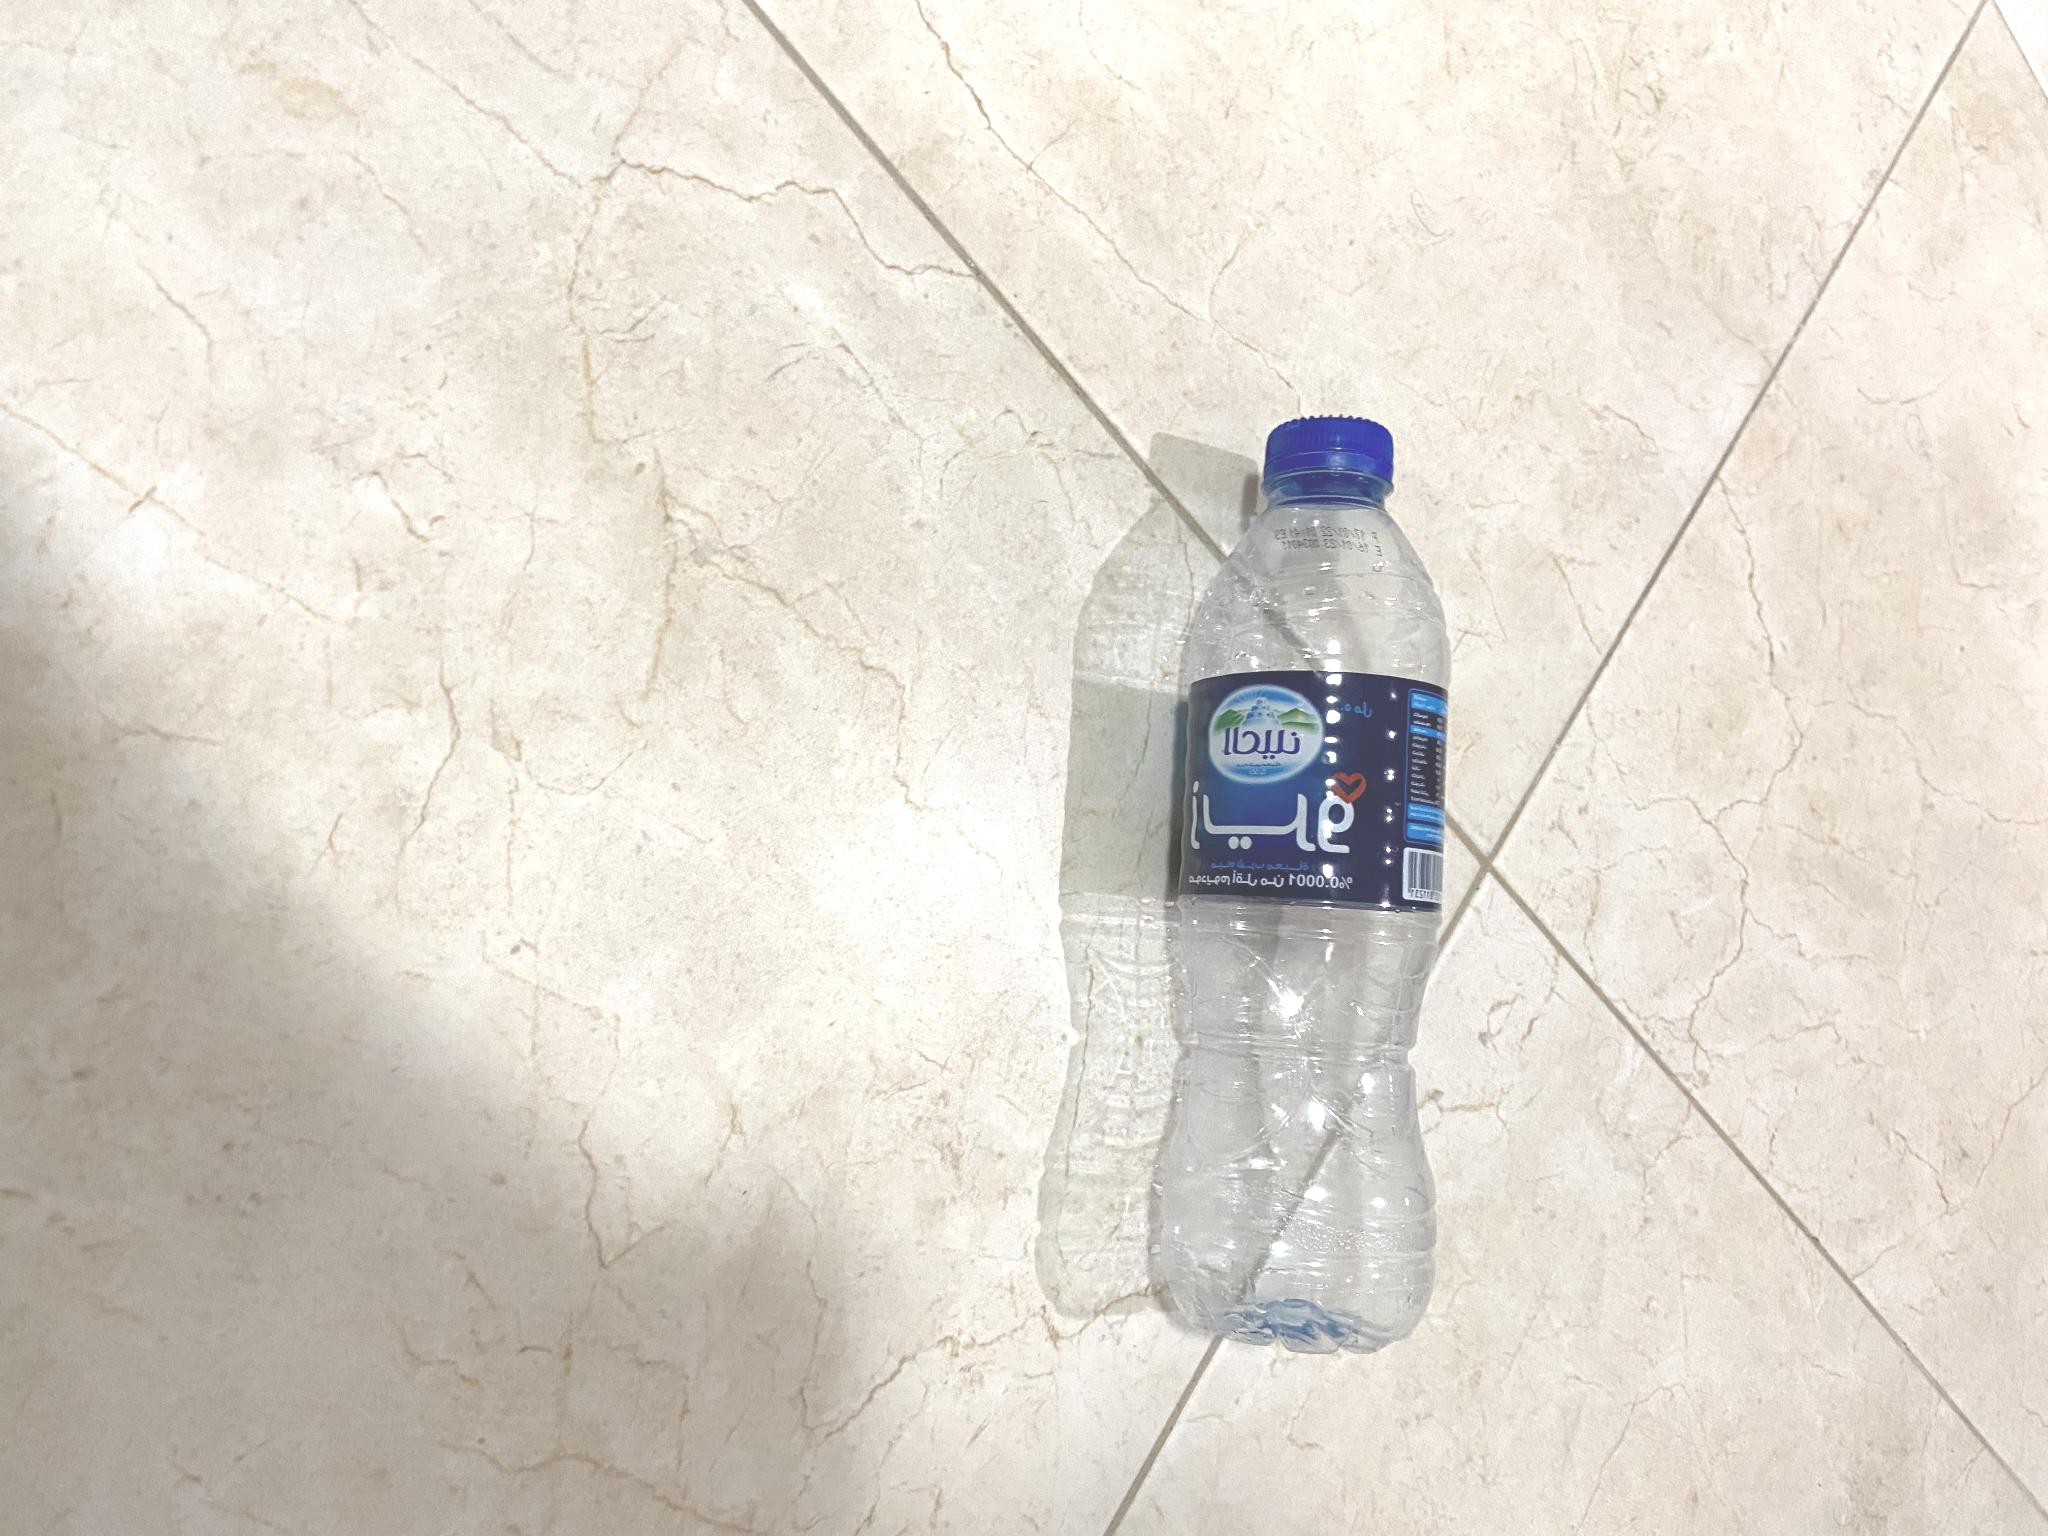bottle: (1155, 424, 1467, 1354)
